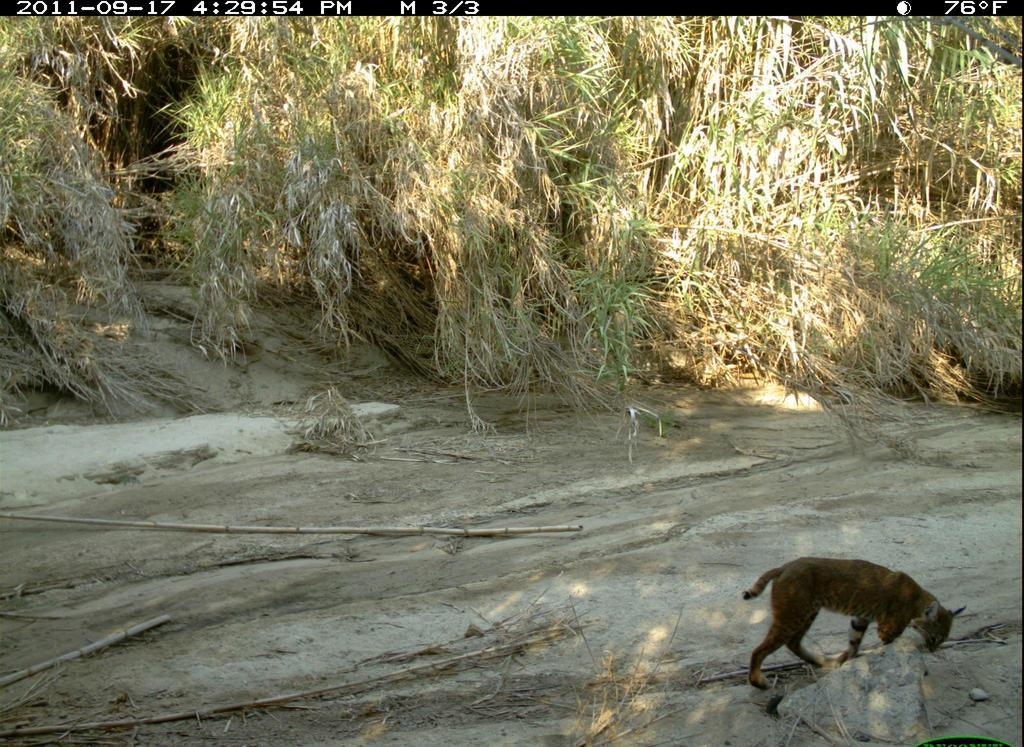bobcat: (728, 550, 962, 708)
